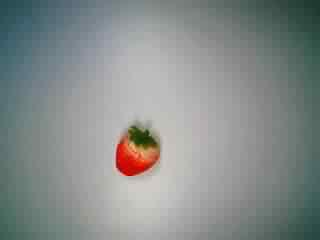strawberry: (97, 118, 165, 182)
